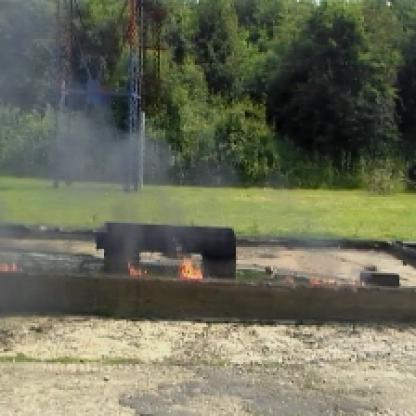Fire: (279, 268, 373, 297), (160, 241, 208, 290), (100, 245, 145, 286), (2, 252, 39, 280)
Smoke: (2, 2, 174, 241)
